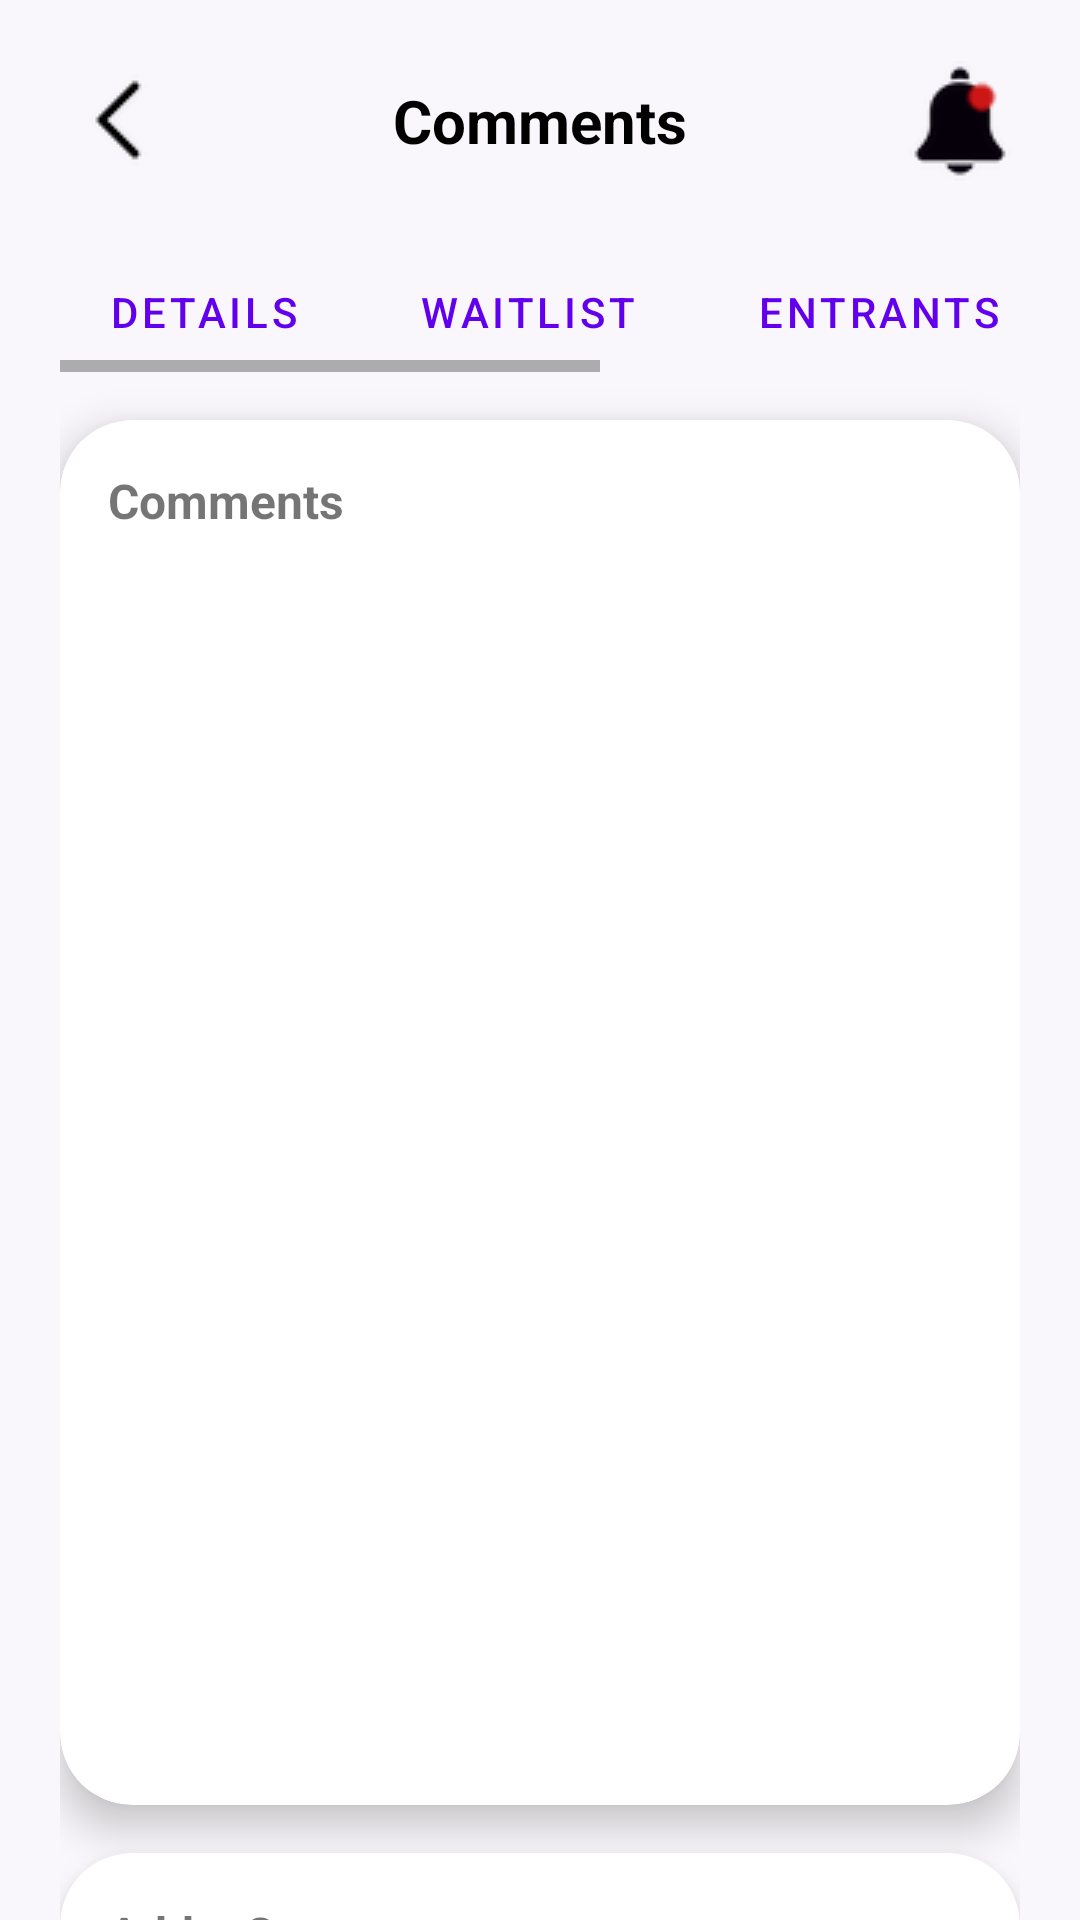

Icons on this 1080×1920 Android screen, each with the point to tap as (x=x, y=y):
left arrow: (x=118, y=120)
notification popular: (x=960, y=121)
